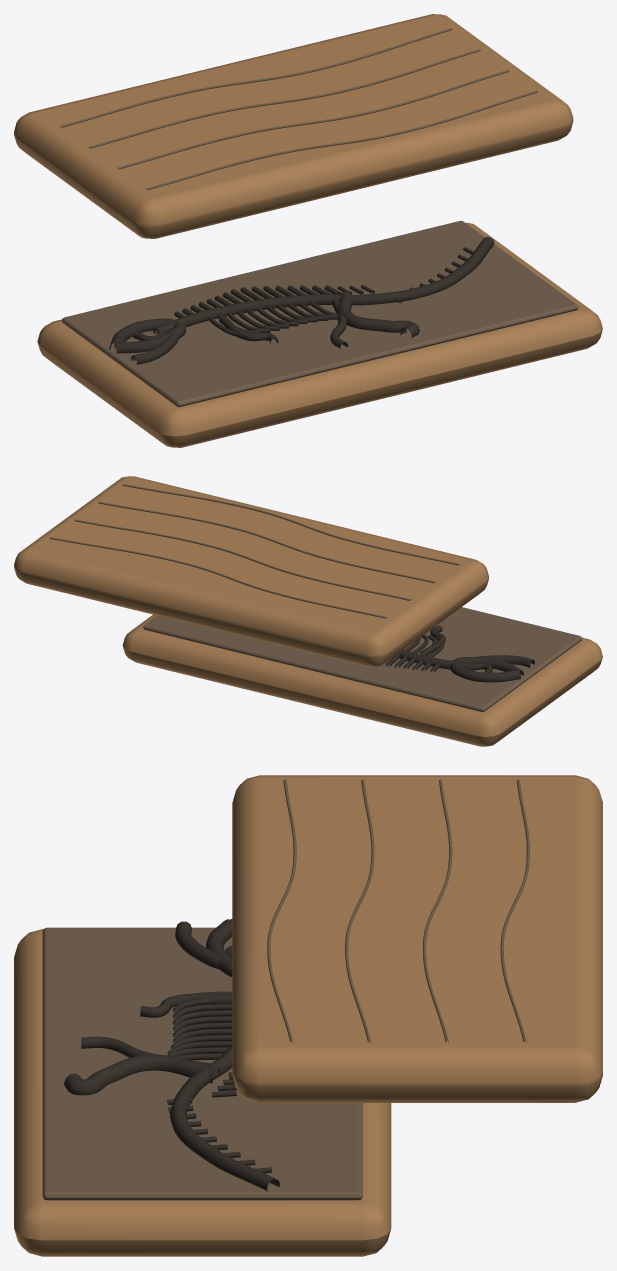
The picture shows the model from 3 angles, top to bottom: view 1: azimuth 30°, elevation 25°; view 2: azimuth 150°, elevation 25°; view 3: azimuth 270°, elevation 25°; orthographic projection. The views are drawn at different scales.
Visible parts, largest first — view 1: Lid with chipped edges, Sediment insert, Excavation case, Spine, Elongated skull, Hind limb, Layer trace.001, Layer trace.002, Layer trace.003, Layer trace, Jaw; view 2: Lid with chipped edges, Excavation case, Sediment insert, Elongated skull, Layer trace.001, Layer trace.003, Layer trace, Layer trace.002, Spine; view 3: Lid with chipped edges, Sediment insert, Excavation case, Spine, Hind limb, Layer trace, Layer trace.003, Layer trace.001, Layer trace.002, Jaw, Elongated skull, Short forelimb (+1 smaller).
Part boxes in pixels (box(x1,y1,x2,y2)): Lid with chipped edges: box(14, 14, 573, 238); Sediment insert: box(61, 220, 578, 407); Excavation case: box(37, 222, 602, 447); Spine: box(153, 237, 494, 334); Elongated skull: box(109, 318, 186, 353); Hind limb: box(338, 291, 419, 337); Layer trace.001: box(117, 70, 509, 169); Layer trace.002: box(88, 49, 480, 148); Layer trace.003: box(60, 28, 452, 127); Layer trace: box(145, 90, 537, 190); Jaw: box(131, 333, 178, 364); Lid with chipped edges: box(14, 476, 488, 667); Excavation case: box(122, 614, 602, 746); Sediment insert: box(143, 607, 582, 711); Elongated skull: box(450, 657, 523, 682); Layer trace.001: box(98, 501, 435, 583); Layer trace.003: box(50, 537, 386, 618); Layer trace: box(122, 484, 459, 565); Layer trace.002: box(74, 519, 411, 600); Spine: box(398, 650, 476, 670); Lid with chipped edges: box(232, 775, 602, 1102); Sediment insert: box(42, 927, 362, 1200); Excavation case: box(14, 929, 391, 1256); Spine: box(170, 1044, 279, 1191); Hind limb: box(64, 1054, 220, 1095); Layer trace: box(267, 779, 296, 1042); Layer trace.003: box(500, 779, 529, 1042); Layer trace.001: box(345, 779, 374, 1042); Layer trace.002: box(422, 779, 452, 1042); Jaw: box(175, 921, 220, 969); Elongated skull: box(206, 919, 232, 976); Short forelimb: box(140, 993, 232, 1017).
Size of the model in its own units: 0.3 by 0.1042 by 0.2275.
